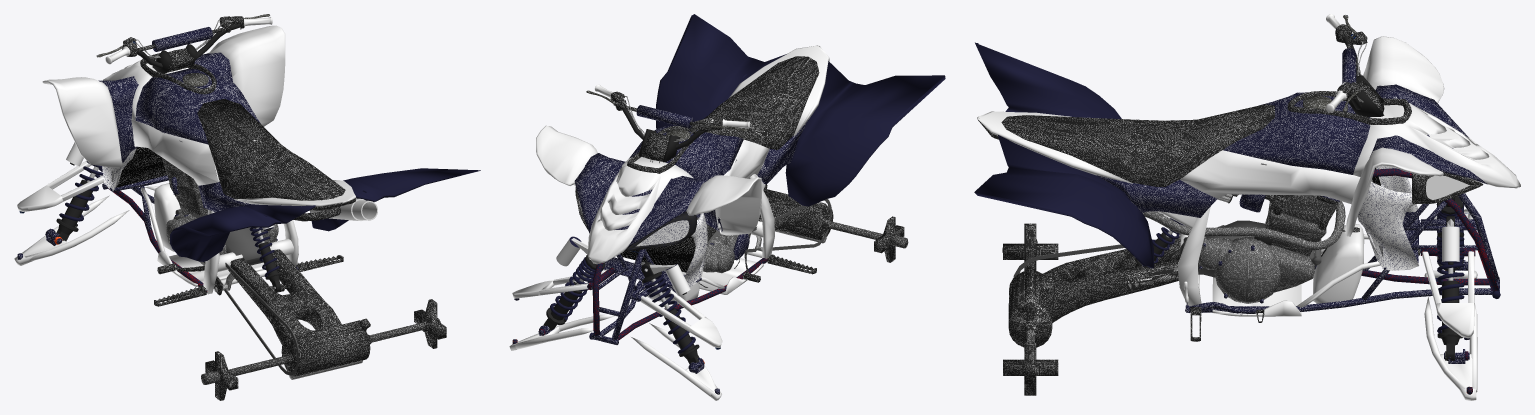
File: quad sledneck.dae
3 views of the same model, side by side, from view 1: azimuth 30°, elevation 25°; view 2: azimuth 150°, elevation 25°; view 3: azimuth 270°, elevation 25° (orthographic). The views are drawn at different scales.
Parts seen in each view (by area): view 1: Component (×38); view 2: Component (×40); view 3: Component (×44).
Boxes of the visible parts, x1,y1,x2,y2 form: Component (×38): (14, 24, 480, 400); Component (×40): (512, 14, 945, 396); Component (×44): (974, 36, 1520, 400).
Size of the model in its own units: 60.44 by 91.98 by 52.61.
